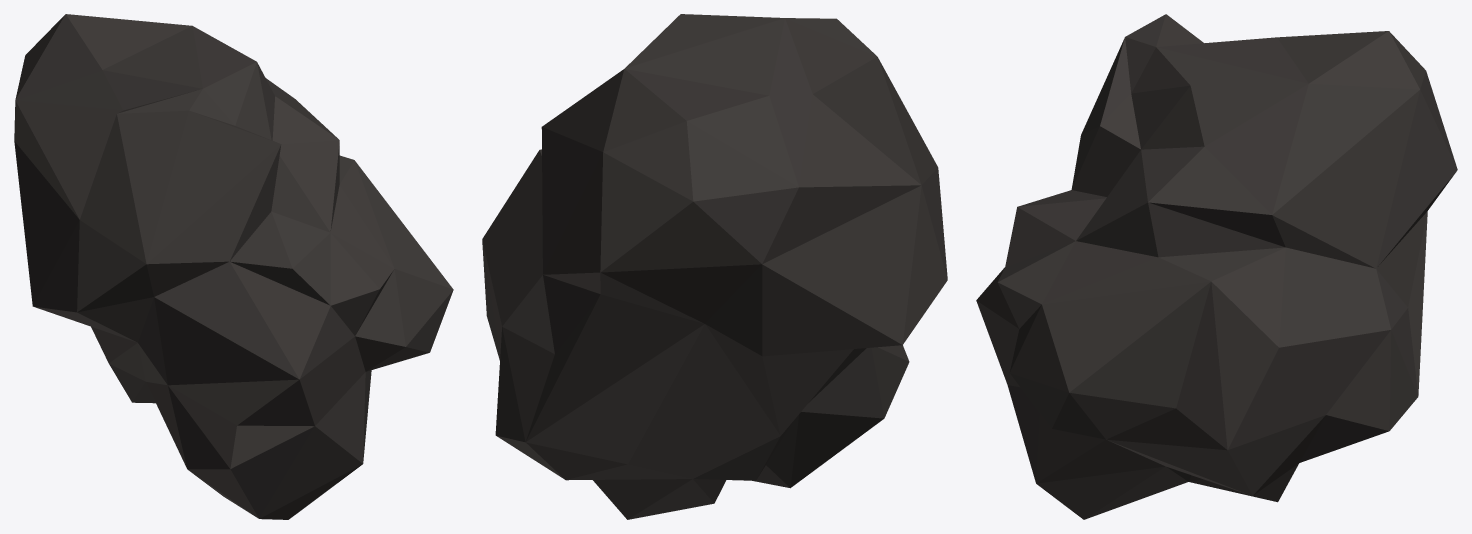
Rendered from Rock_8_LOD_1.fbx.
3 renders of one model, left to right at view 1: azimuth 30°, elevation 25°; view 2: azimuth 150°, elevation 25°; view 3: azimuth 270°, elevation 25°, orthographic. The views are drawn at different scales.
Parts seen in each view (by area): view 1: Group64189; view 2: Group64189; view 3: Group64189.
Boxes of the visible parts, x1,y1,x2,y2 form: Group64189: (14,14,453,519); Group64189: (482,14,947,519); Group64189: (976,14,1457,519).
Bounding box in the file's own units: 3.54 × 4.09 × 3.99.
